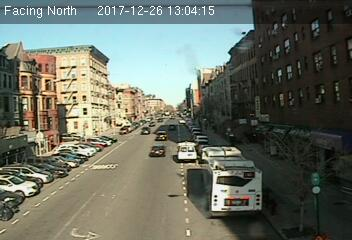bus: (201, 146, 263, 216)
car: (150, 145, 164, 157), (156, 129, 166, 140)
truck: (175, 141, 196, 161)
